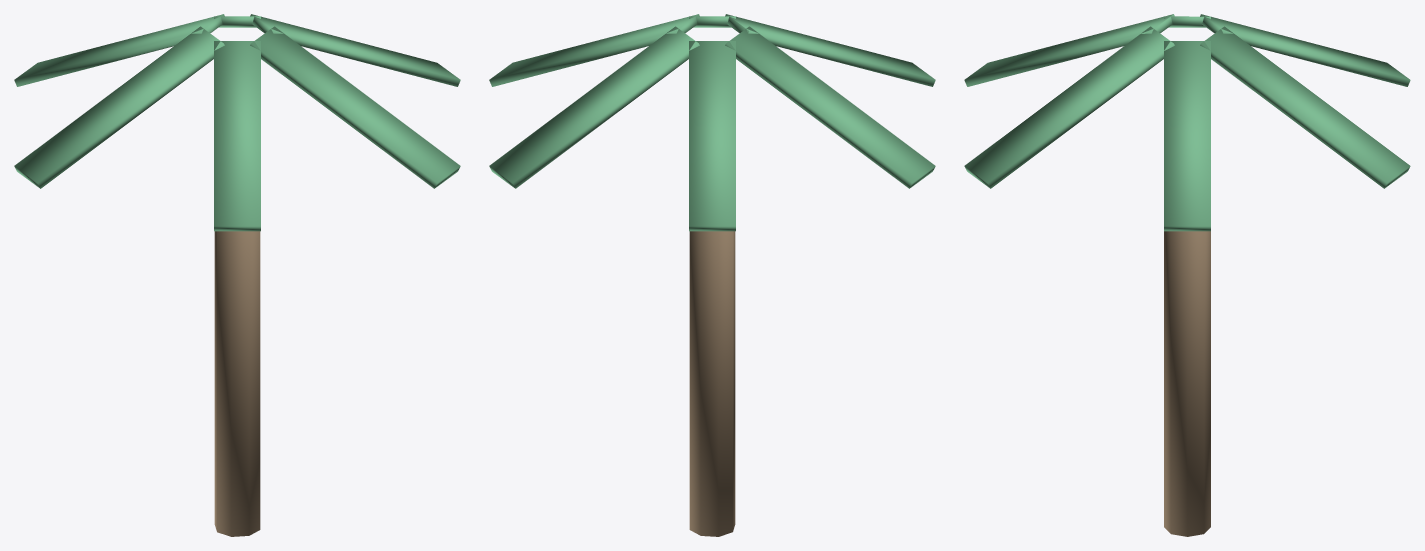
Rendered from SM_Warmerdamm_Palm_LOD3.fbx.
3 views of the same model, side by side, from view 1: azimuth 30°, elevation 25°; view 2: azimuth 150°, elevation 25°; view 3: azimuth 270°, elevation 25° (orthographic).
Parts seen in each view (by area): view 1: SM_Warmerdamm_Palm_LOD3; view 2: SM_Warmerdamm_Palm_LOD3; view 3: SM_Warmerdamm_Palm_LOD3.
Part boxes in pixels (x1,y1,x2,y2): SM_Warmerdamm_Palm_LOD3: (14,14,460,536); SM_Warmerdamm_Palm_LOD3: (489,14,935,536); SM_Warmerdamm_Palm_LOD3: (964,14,1410,536).
Size of the model in its own units: 3.26 by 3.67 by 2.98.
